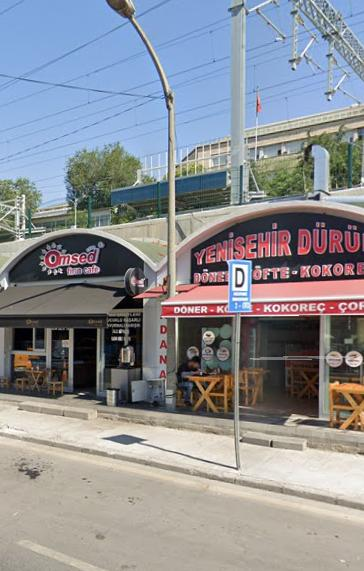station: (231, 261, 249, 292)
